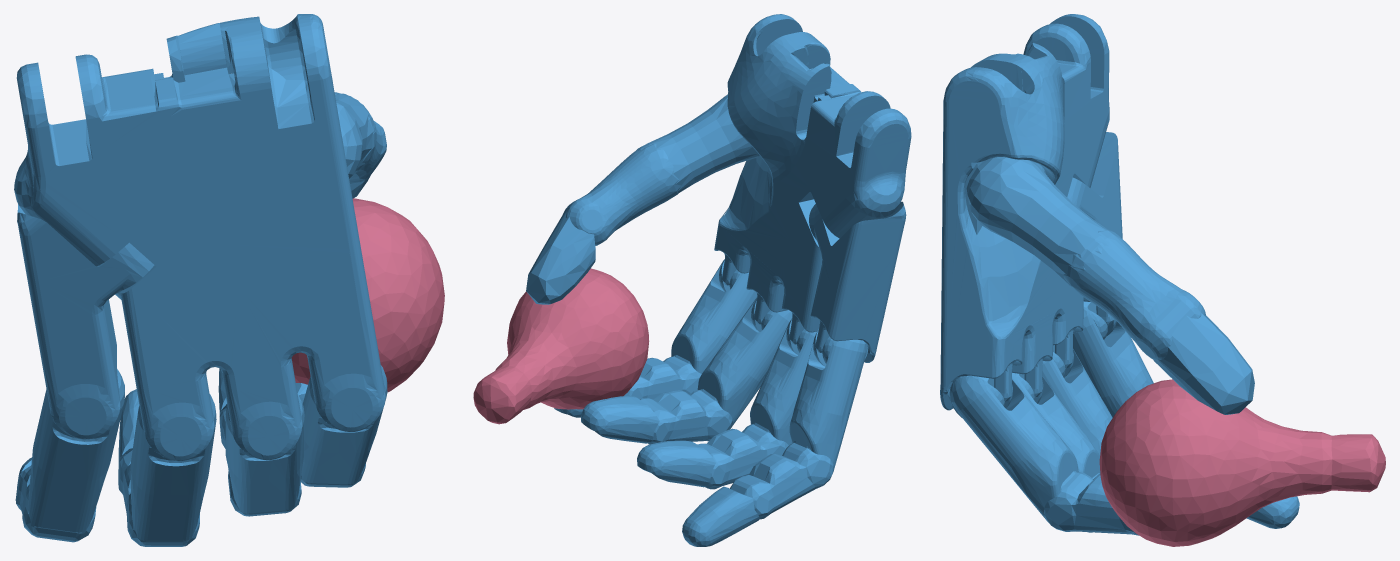
3 renders of one model, left to right at view 1: azimuth 30°, elevation 25°; view 2: azimuth 150°, elevation 25°; view 3: azimuth 270°, elevation 25°, orthographic. The views are drawn at different scales.
Visible parts, largest first — view 1: 7; view 2: 7; view 3: 7.
Boxes of the visible parts, x1,y1,x2,y2 form: 7: (14, 14, 444, 546); 7: (473, 14, 911, 546); 7: (940, 14, 1385, 546).
Size of the model in its own units: 0.1417 by 0.1673 by 0.1395.
